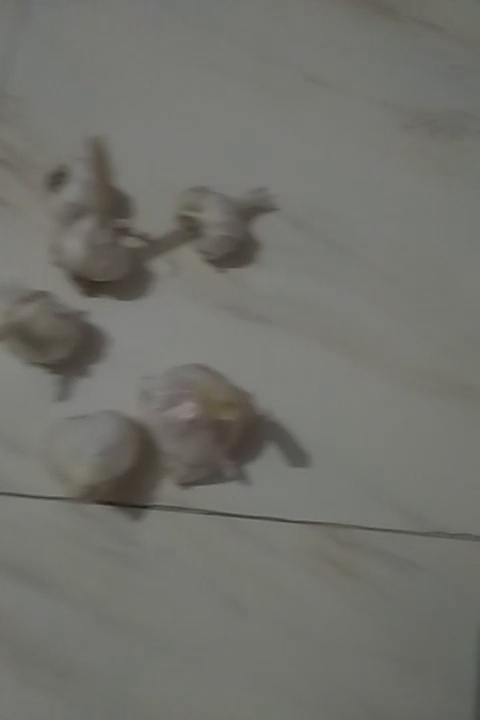garlic: (130, 361, 258, 481), (30, 412, 144, 498), (51, 215, 149, 301), (1, 286, 95, 374), (167, 180, 272, 246)
